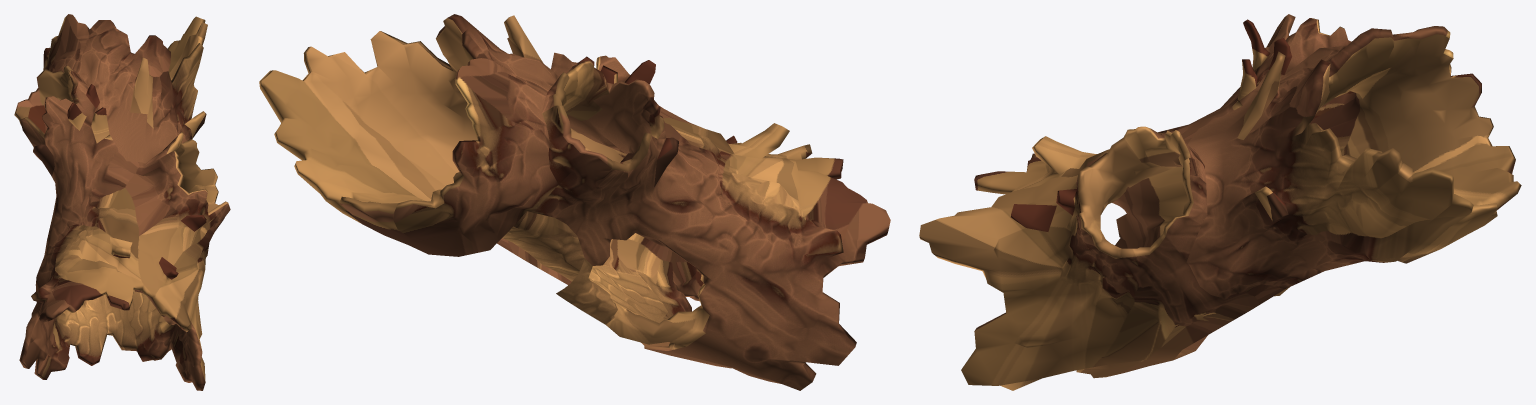
File: logv2 low.fbx
3 views of the same model, side by side, from view 1: azimuth 30°, elevation 25°; view 2: azimuth 150°, elevation 25°; view 3: azimuth 270°, elevation 25° (orthographic). The views are drawn at different scales.
Visible parts, largest first — view 1: Log_low; view 2: Log_low; view 3: Log_low.
Part boxes in pixels (x1=…): Log_low: x1=14, y1=14, x2=230, y2=390; Log_low: x1=259, y1=14, x2=890, y2=390; Log_low: x1=919, y1=14, x2=1521, y2=390.
Size of what is drawn, in the model's own units: 3.84 by 3.36 by 4.61.
